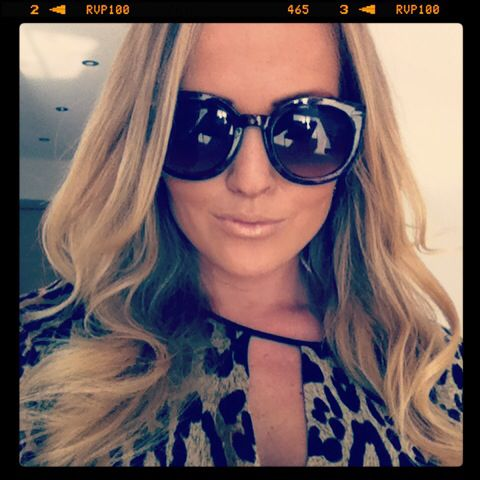sunglasses: (176, 95, 356, 175)
